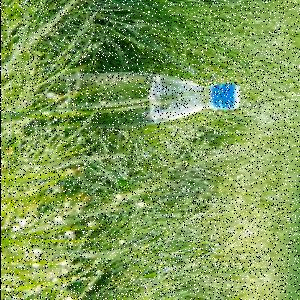Plastic-bottle: (37, 74, 241, 128)
